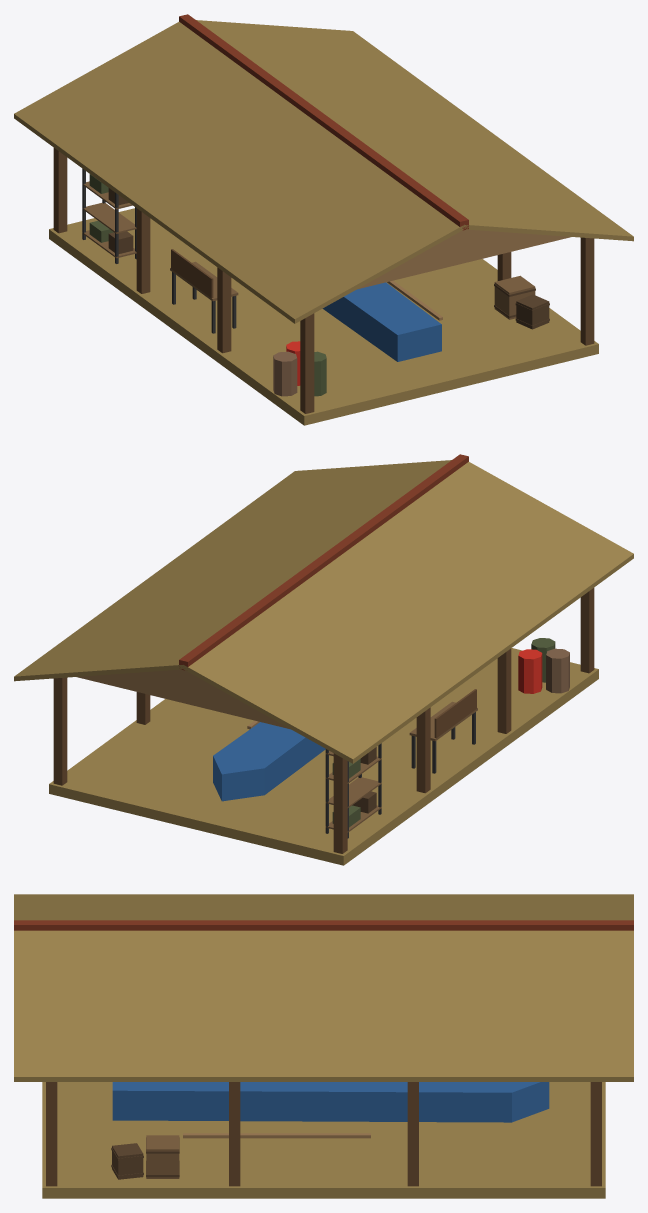
File: rancho_pesca_a.glb
The picture shows the model from 3 angles, top to bottom: view 1: azimuth 30°, elevation 25°; view 2: azimuth 150°, elevation 25°; view 3: azimuth 270°, elevation 25°; orthographic projection. The views are drawn at different scales.
Parts seen in each view (by area): view 1: rancho_pesca_a; view 2: rancho_pesca_a; view 3: rancho_pesca_a.
Boxes of the visible parts, x1,y1,x2,y2 form: rancho_pesca_a: (14,14,633,425); rancho_pesca_a: (14,454,633,865); rancho_pesca_a: (14,894,633,1198).
Size of the model in its own units: 9.2 by 4.62 by 13.2.
